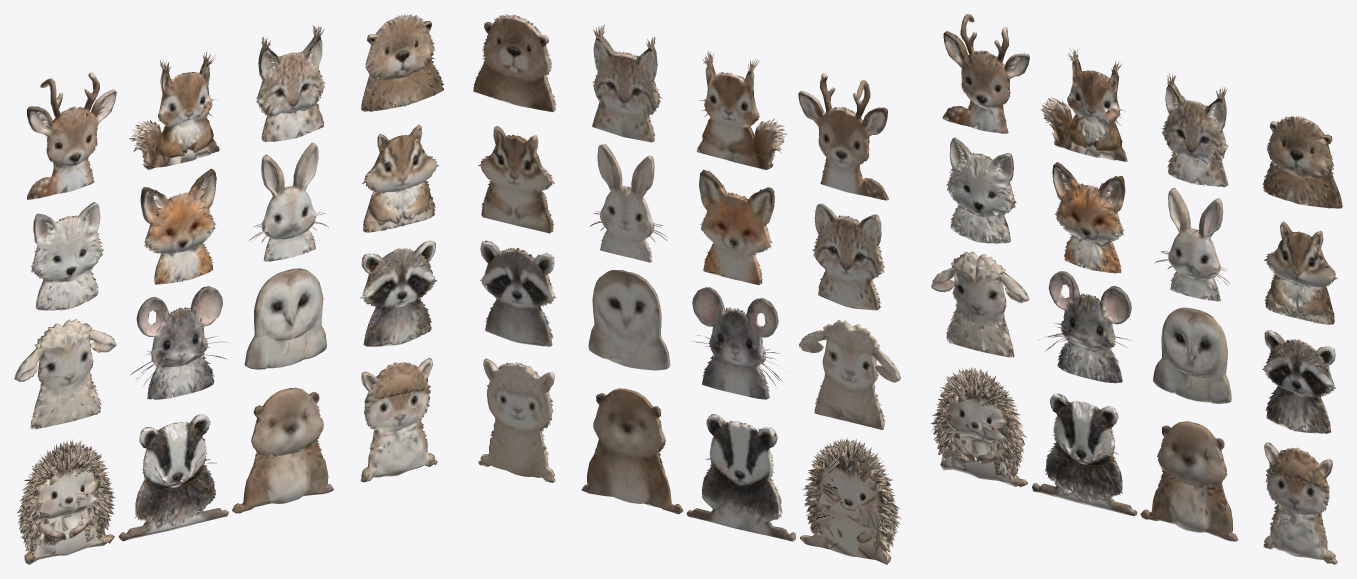
The picture shows the model from 3 angles, left to right: view 1: azimuth 30°, elevation 25°; view 2: azimuth 150°, elevation 25°; view 3: azimuth 330°, elevation 25°; orthographic projection. The views are drawn at different scales.
Visible parts, largest first — view 1: Mesh 2, Mesh 9, Mesh 5, Mesh 15, Mesh 1, Mesh 7, Mesh 10, Mesh 13, Mesh 8, Mesh 4, Mesh 14, Mesh 6 (+4 smaller); view 2: Mesh 2, Mesh 9, Mesh 5, Mesh 15, Mesh 1, Mesh 10, Mesh 7, Mesh 13, Mesh 8, Mesh 6, Mesh 14, Mesh 4 (+4 smaller); view 3: Mesh 2, Mesh 9, Mesh 5, Mesh 15, Mesh 1, Mesh 7, Mesh 10, Mesh 13, Mesh 8, Mesh 6, Mesh 4, Mesh 14 (+4 smaller).
Boxes of the visible parts, x1=… form: Mesh 2: x1=16, y1=440, x2=115, y2=564; Mesh 9: x1=232, y1=387, x2=333, y2=513; Mesh 5: x1=118, y1=414, x2=228, y2=541; Mesh 15: x1=360, y1=358, x2=437, y2=482; Mesh 1: x1=14, y1=319, x2=116, y2=429; Mesh 7: x1=130, y1=286, x2=227, y2=399; Mesh 10: x1=244, y1=268, x2=326, y2=369; Mesh 13: x1=360, y1=240, x2=437, y2=346; Mesh 8: x1=140, y1=168, x2=216, y2=284; Mesh 4: x1=31, y1=202, x2=103, y2=310; Mesh 14: x1=361, y1=14, x2=443, y2=111; Mesh 6: x1=129, y1=51, x2=219, y2=169; Mesh 2: x1=800, y1=437, x2=901, y2=564; Mesh 9: x1=581, y1=388, x2=683, y2=514; Mesh 5: x1=686, y1=413, x2=795, y2=541; Mesh 15: x1=478, y1=358, x2=555, y2=482; Mesh 1: x1=798, y1=319, x2=900, y2=429; Mesh 10: x1=588, y1=270, x2=670, y2=370; Mesh 7: x1=691, y1=287, x2=789, y2=399; Mesh 13: x1=480, y1=240, x2=556, y2=346; Mesh 8: x1=699, y1=169, x2=774, y2=285; Mesh 6: x1=696, y1=50, x2=787, y2=169; Mesh 14: x1=473, y1=14, x2=556, y2=111; Mesh 4: x1=812, y1=203, x2=884, y2=310; Mesh 2: x1=930, y1=367, x2=1027, y2=487; Mesh 9: x1=1140, y1=421, x2=1238, y2=541; Mesh 5: x1=1032, y1=393, x2=1137, y2=516; Mesh 15: x1=1263, y1=442, x2=1337, y2=564; Mesh 1: x1=931, y1=251, x2=1029, y2=357; Mesh 7: x1=1037, y1=271, x2=1131, y2=383; Mesh 10: x1=1153, y1=307, x2=1231, y2=403; Mesh 13: x1=1262, y1=330, x2=1336, y2=433; Mesh 8: x1=1052, y1=162, x2=1125, y2=273; Mesh 6: x1=1040, y1=47, x2=1127, y2=161; Mesh 4: x1=946, y1=137, x2=1016, y2=243; Mesh 14: x1=1262, y1=116, x2=1342, y2=208.
Bounding box in the file's own units: 1.78 × 1.91 × 0.1285.
16 materials, 16 textured.
